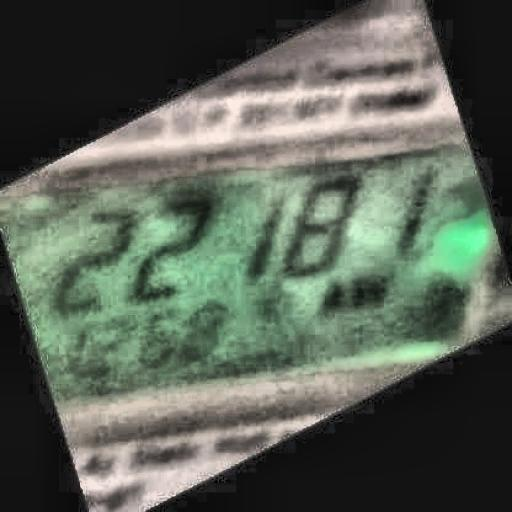SERIAL_REGION: (40, 164, 459, 338)
